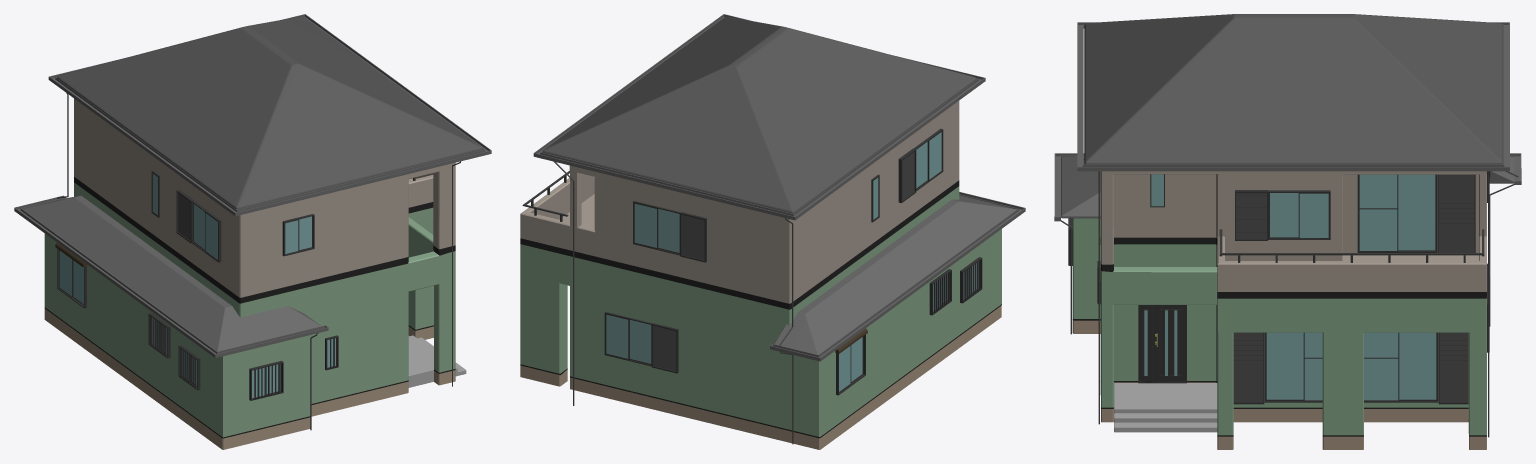
File: House_009_high.fbx
The picture shows the model from 3 angles, left to right: view 1: azimuth 30°, elevation 25°; view 2: azimuth 150°, elevation 25°; view 3: azimuth 270°, elevation 25°; orthographic projection. The views are drawn at different scales.
Parts seen in each view (by area): view 1: group28; view 2: group28; view 3: group28.
Boxes of the visible parts, left/top/right/bottom form: group28: left=14, top=14, right=491, bottom=449; group28: left=520, top=14, right=1025, bottom=449; group28: left=1054, top=14, right=1521, bottom=449.
Bounding box in the file's own units: 8.58 × 8.35 × 9.67.
